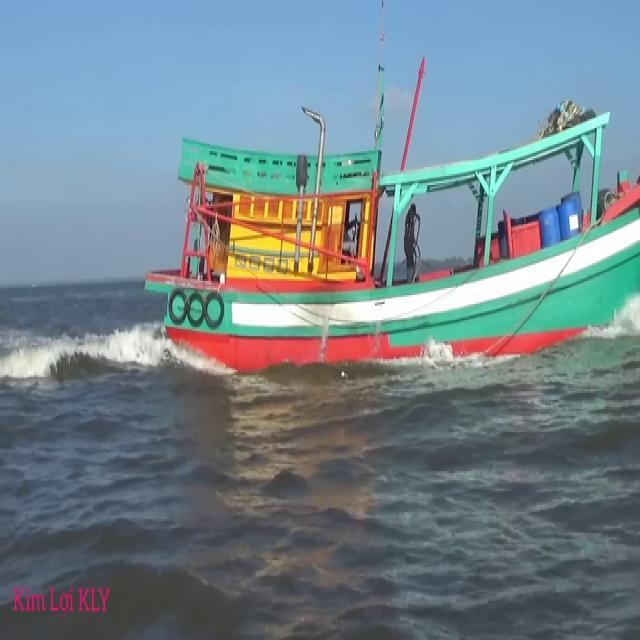Ship: (141, 86, 640, 369)
